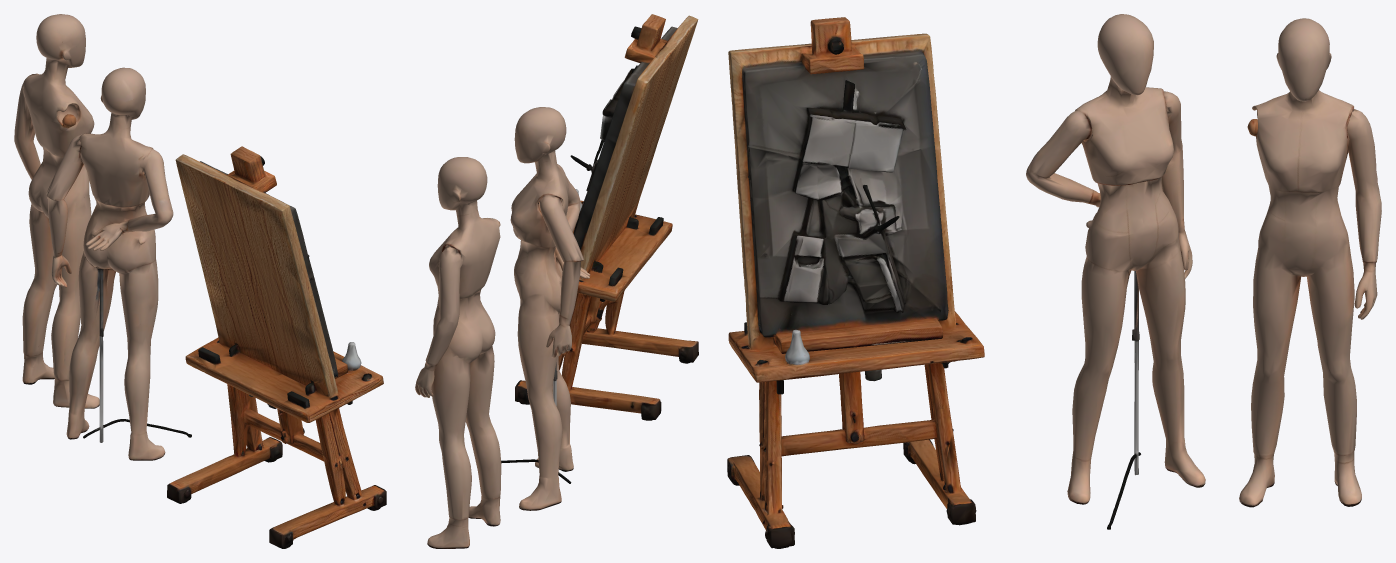
File: tripo_h31_mannequin_artist_easel_prop_kit.glb
The picture shows the model from 3 angles, left to right: view 1: azimuth 30°, elevation 25°; view 2: azimuth 150°, elevation 25°; view 3: azimuth 270°, elevation 25°; orthographic projection. The views are drawn at different scales.
Visible parts, largest first — view 1: tripo_node_755bc3b4-990f-4985-b9ff-14b4580af7b1; view 2: tripo_node_755bc3b4-990f-4985-b9ff-14b4580af7b1; view 3: tripo_node_755bc3b4-990f-4985-b9ff-14b4580af7b1.
Boxes of the visible parts, x1,y1,x2,y2 form: tripo_node_755bc3b4-990f-4985-b9ff-14b4580af7b1: (14, 14, 386, 548); tripo_node_755bc3b4-990f-4985-b9ff-14b4580af7b1: (415, 14, 698, 548); tripo_node_755bc3b4-990f-4985-b9ff-14b4580af7b1: (727, 14, 1381, 548).
Size of the model in its own units: 0.4018 by 0.8044 by 0.9998.
1 material, 1 textured.
